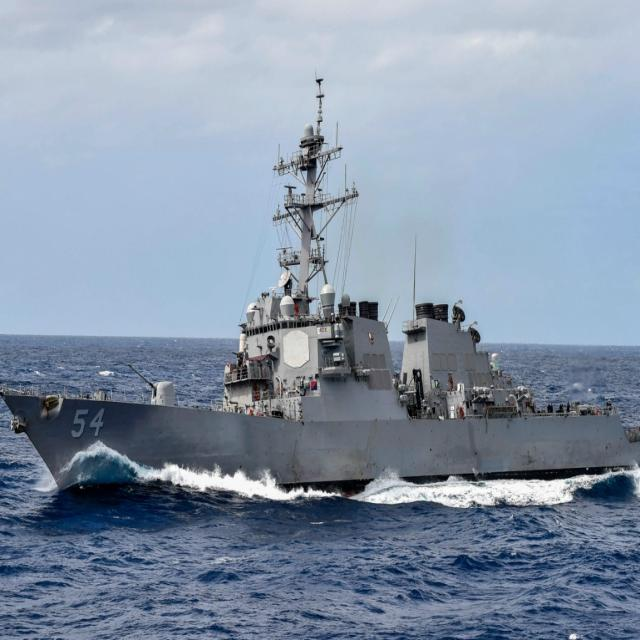navalvessels: (21, 105, 640, 510)
